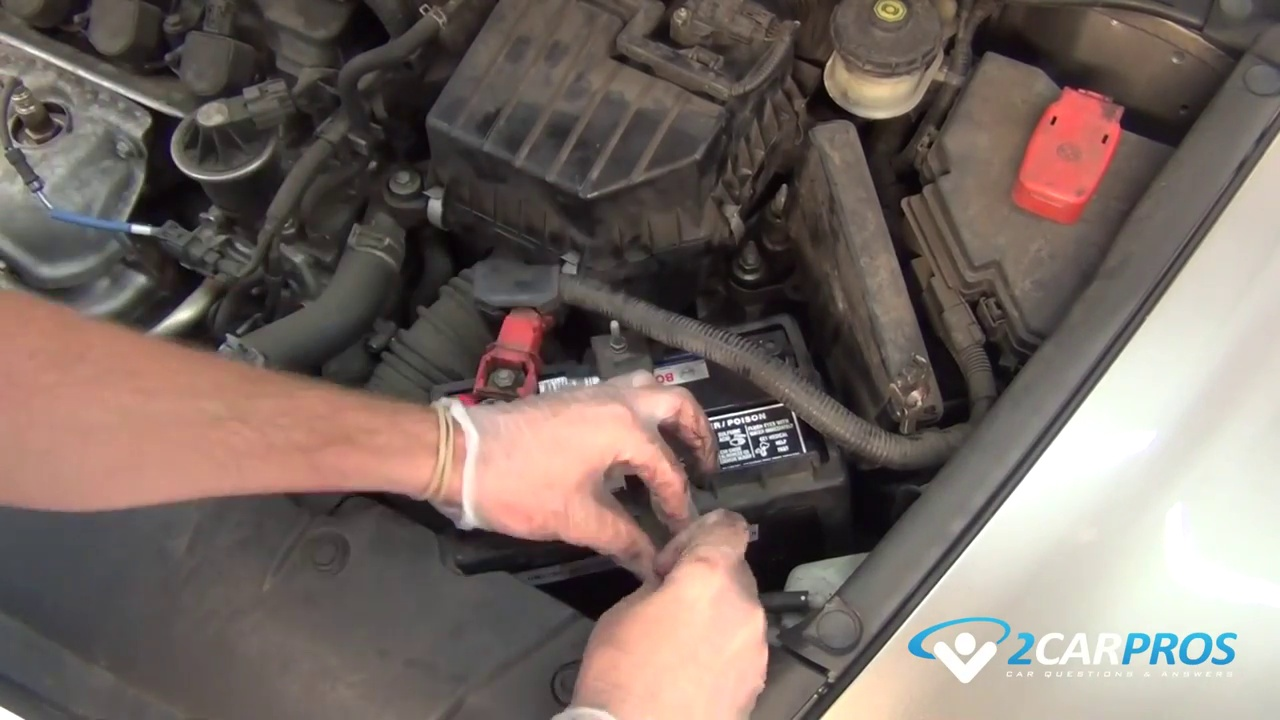battery: (429, 312, 854, 526)
pos_touched: (477, 294, 592, 502)
